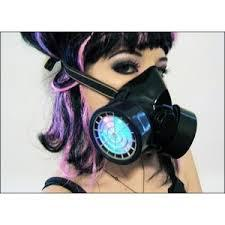OK: (87, 45, 168, 134)
